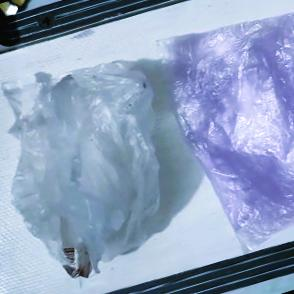Plastik: (3, 60, 160, 279), (157, 11, 294, 252)
